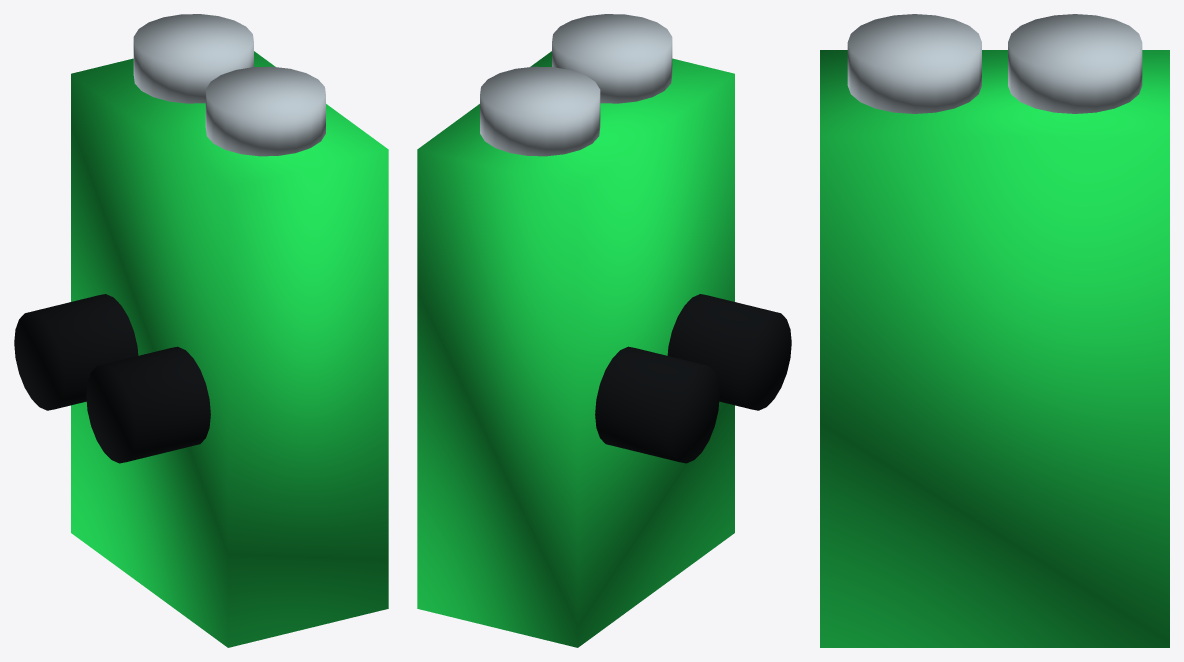
The model's file is 41_L94_J1_Protected5VTerminal.fbx.
3 views of the same model, side by side, from view 1: azimuth 30°, elevation 25°; view 2: azimuth 150°, elevation 25°; view 3: azimuth 270°, elevation 25° (orthographic). The views are drawn at different scales.
Visible parts, largest first — view 1: L94_Protected5VTerminal_Part_0000, L94_Protected5VTerminal_Part_0002, L94_Protected5VTerminal_Part_0001; view 2: L94_Protected5VTerminal_Part_0000, L94_Protected5VTerminal_Part_0002, L94_Protected5VTerminal_Part_0001; view 3: L94_Protected5VTerminal_Part_0000, L94_Protected5VTerminal_Part_0001.
Boxes of the visible parts, bbox=[...] form: L94_Protected5VTerminal_Part_0000: bbox=[71, 51, 388, 647]; L94_Protected5VTerminal_Part_0002: bbox=[14, 294, 210, 463]; L94_Protected5VTerminal_Part_0001: bbox=[133, 14, 325, 156]; L94_Protected5VTerminal_Part_0000: bbox=[417, 51, 734, 647]; L94_Protected5VTerminal_Part_0002: bbox=[595, 294, 791, 463]; L94_Protected5VTerminal_Part_0001: bbox=[480, 14, 672, 156]; L94_Protected5VTerminal_Part_0000: bbox=[820, 50, 1169, 647]; L94_Protected5VTerminal_Part_0001: bbox=[847, 14, 1142, 113].
Bounding box in the file's own units: 13.9 × 28.6 × 16.13.
